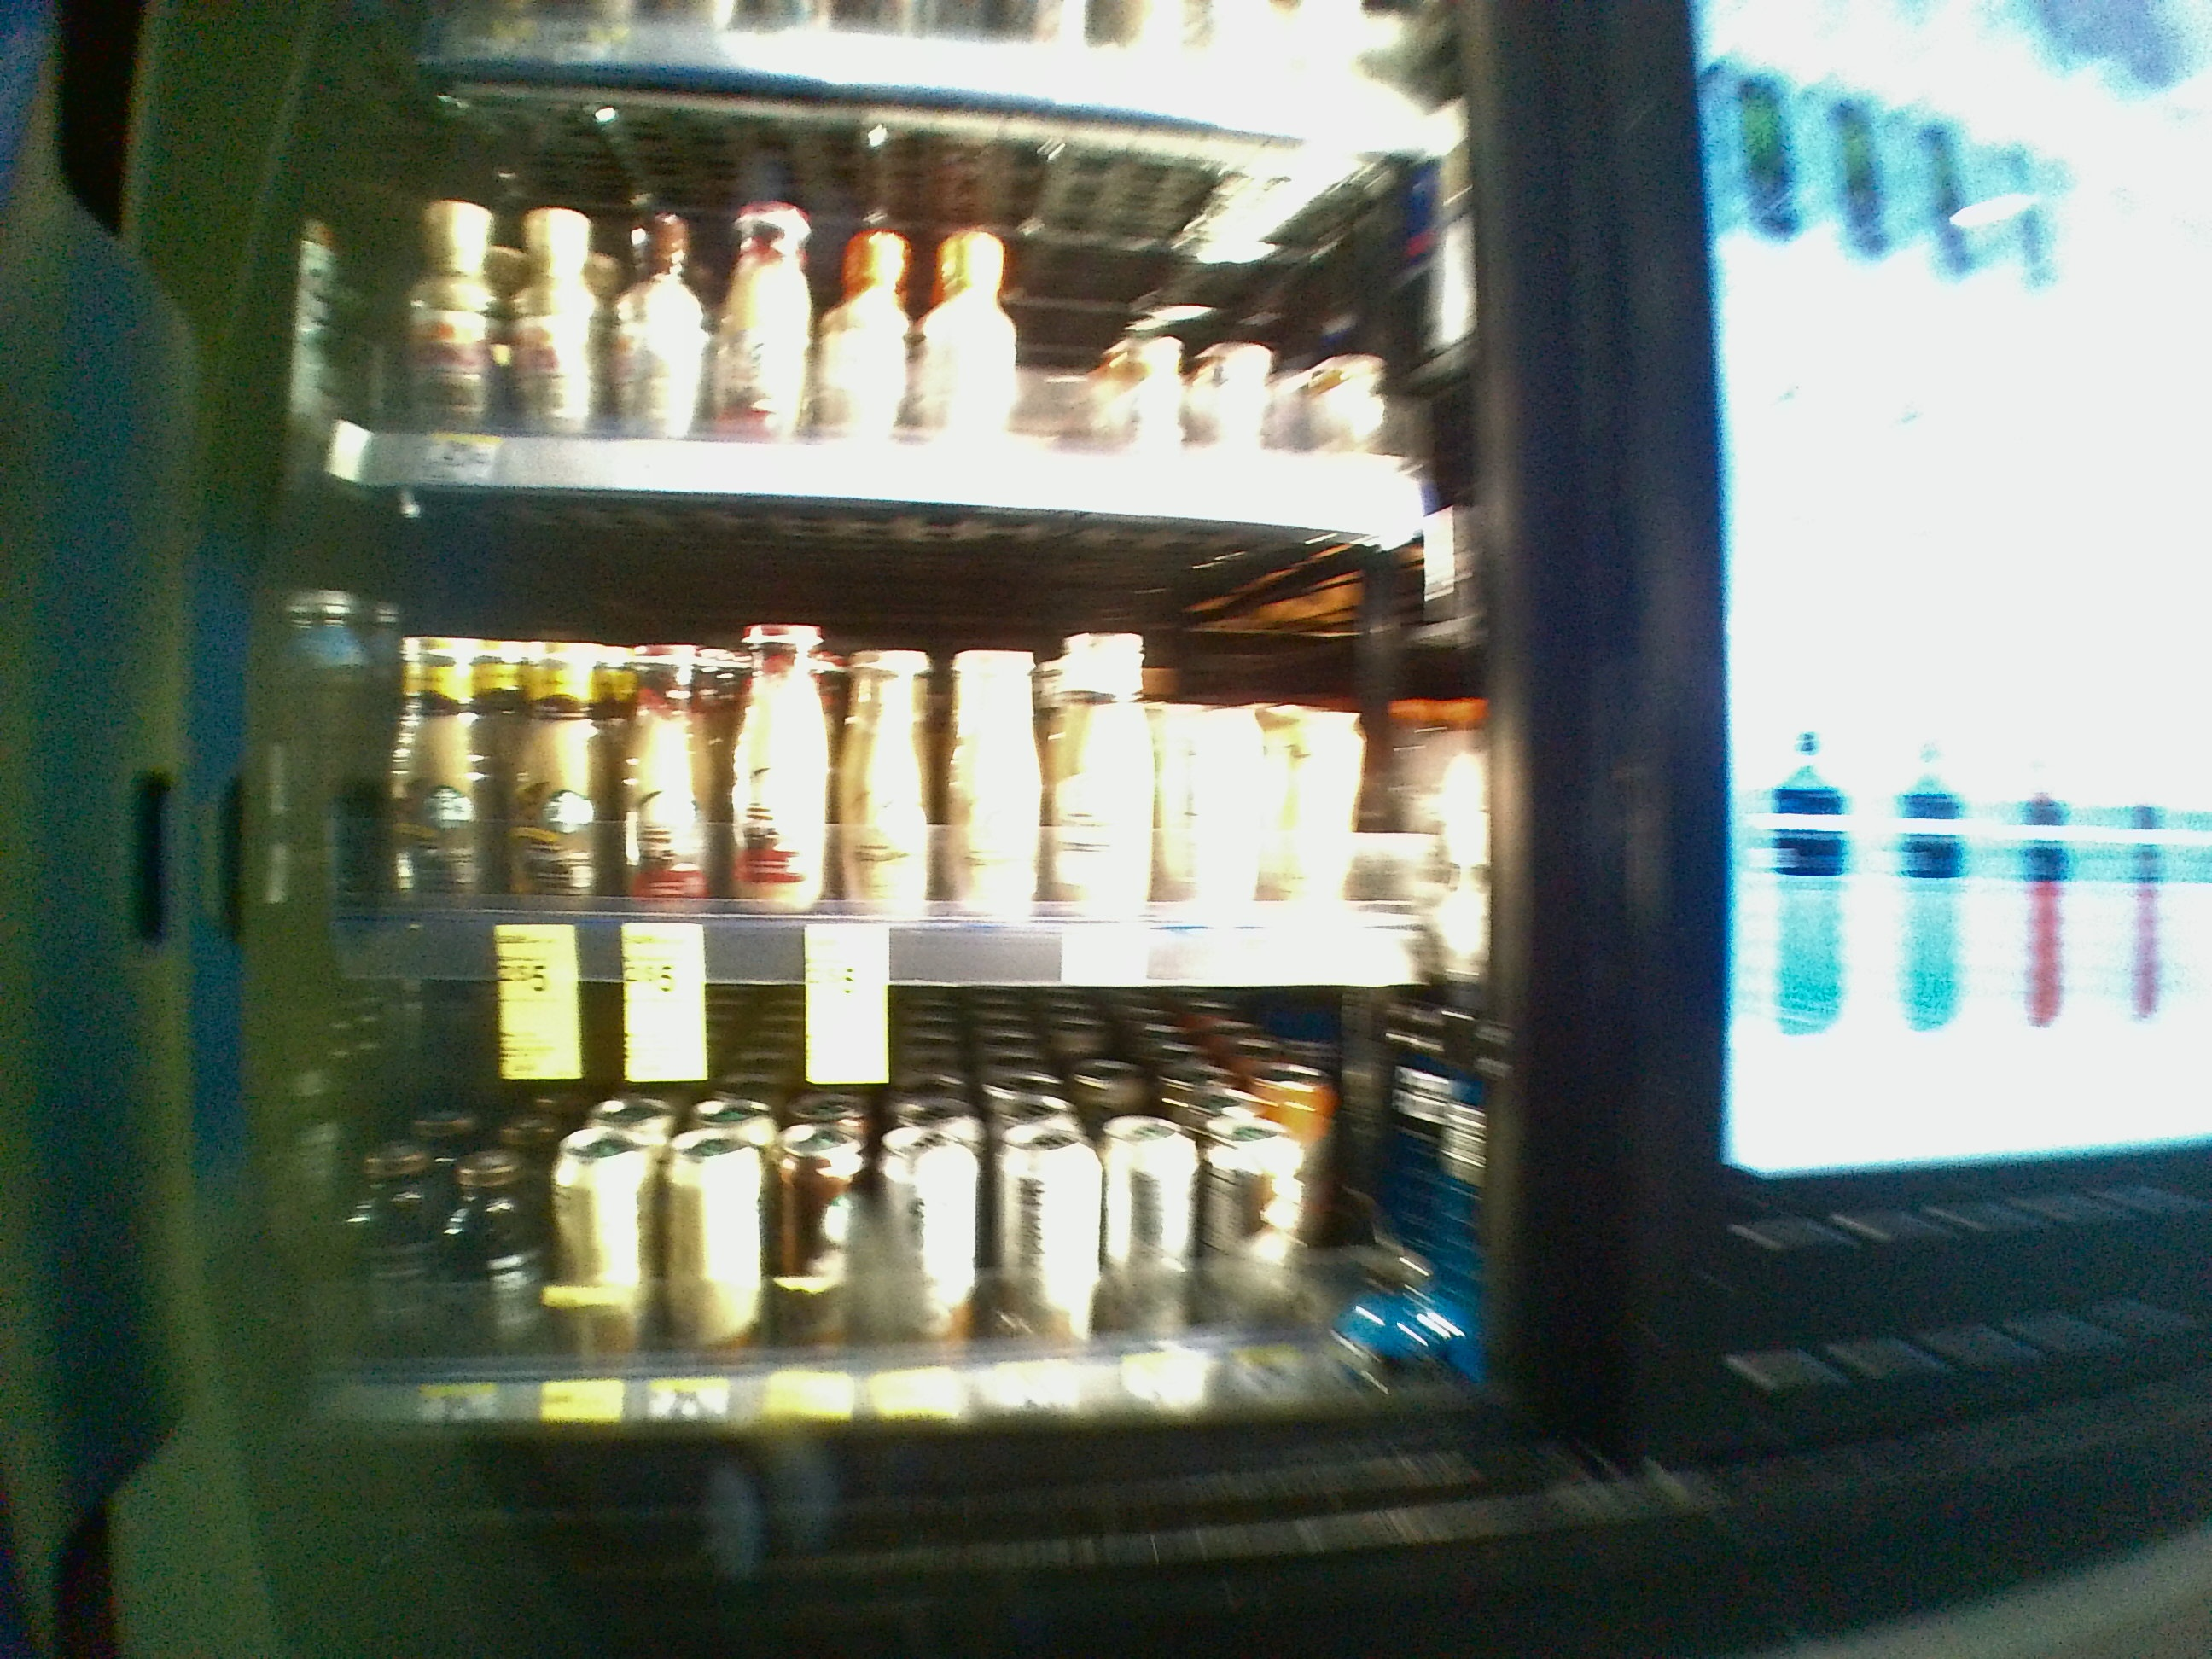shelf: (266, 500, 1507, 985), (258, 974, 1505, 1420)
